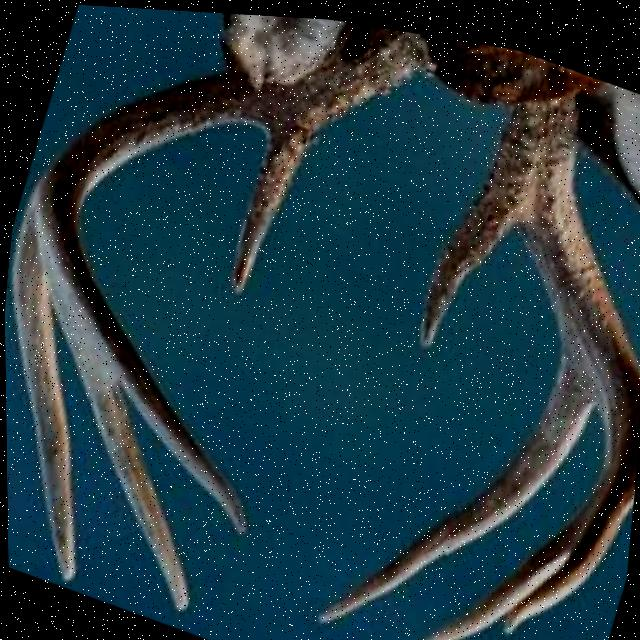L-F: (32, 19, 436, 536)
L-G1: (225, 124, 316, 295)
L-G2: (7, 200, 77, 583)
L-G3: (75, 368, 188, 611)
R-F: (494, 84, 640, 631)
R-G1: (413, 150, 520, 348)
R-G2: (308, 331, 594, 625)
